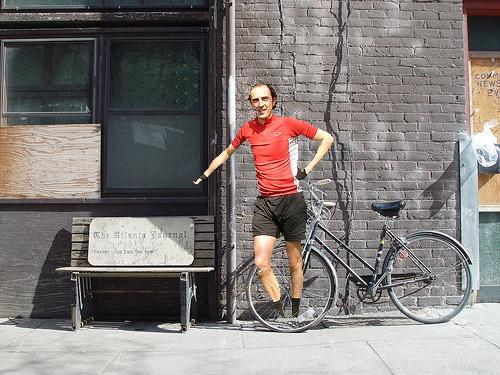tampered: (194, 84, 333, 317)
